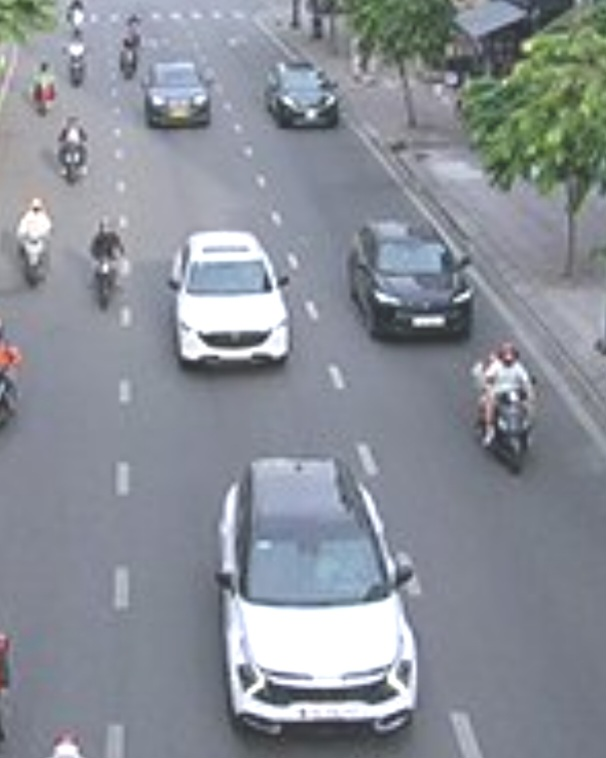car: (217, 454, 420, 735), (173, 230, 294, 368), (344, 215, 476, 341), (265, 59, 341, 131), (142, 59, 212, 130)
